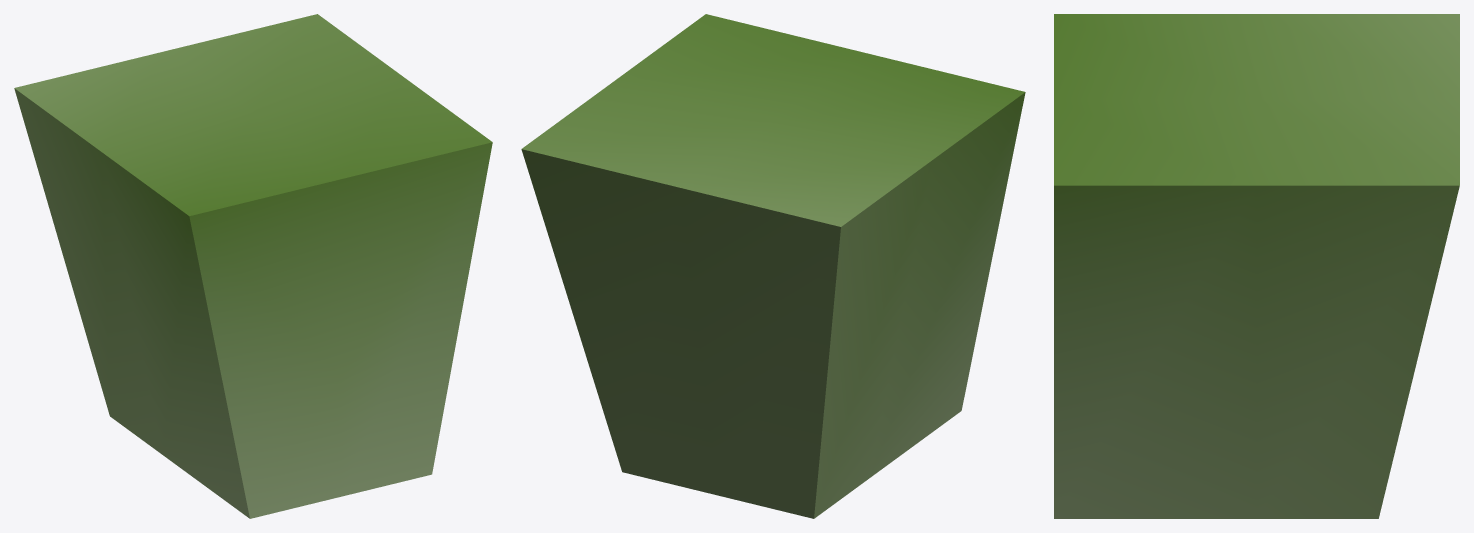
Rendered from T4DirF.fbx.
The picture shows the model from 3 angles, left to right: view 1: azimuth 30°, elevation 25°; view 2: azimuth 150°, elevation 25°; view 3: azimuth 270°, elevation 25°; orthographic projection. The views are drawn at different scales.
Visible parts, largest first — view 1: 3, 1, 4, 2; view 2: 4, 2, 3, 1; view 3: 1, 2, 3, 4.
Part boxes in pixels (x1,y1,x2,y2): 3: (102, 115, 340, 518); 1: (254, 78, 492, 496); 4: (14, 51, 252, 454); 2: (166, 14, 404, 114); 4: (681, 120, 932, 518); 2: (521, 81, 772, 495); 3: (774, 53, 1025, 477); 1: (614, 14, 865, 120); 1: (1054, 99, 1256, 518); 2: (1257, 99, 1459, 518); 3: (1054, 14, 1256, 99); 4: (1257, 14, 1459, 99).
Bounding box in the file's own units: 200 × 200 × 200.
